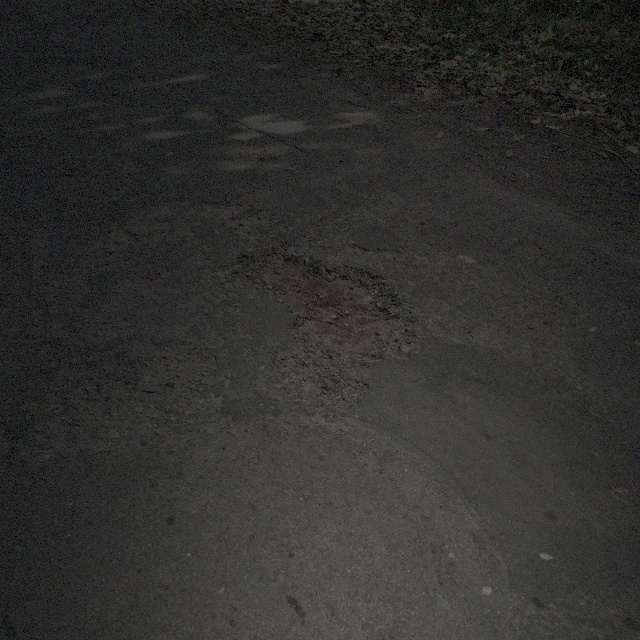pothole: (231, 247, 415, 366)
